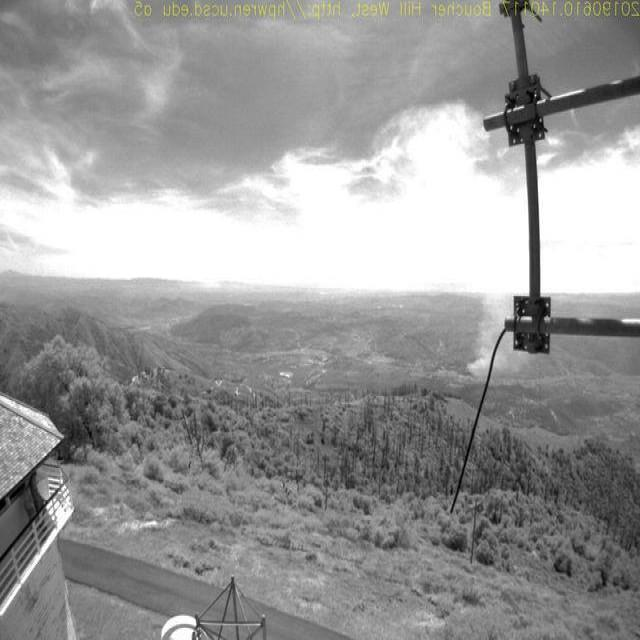Smoke: (470, 284, 517, 376)
